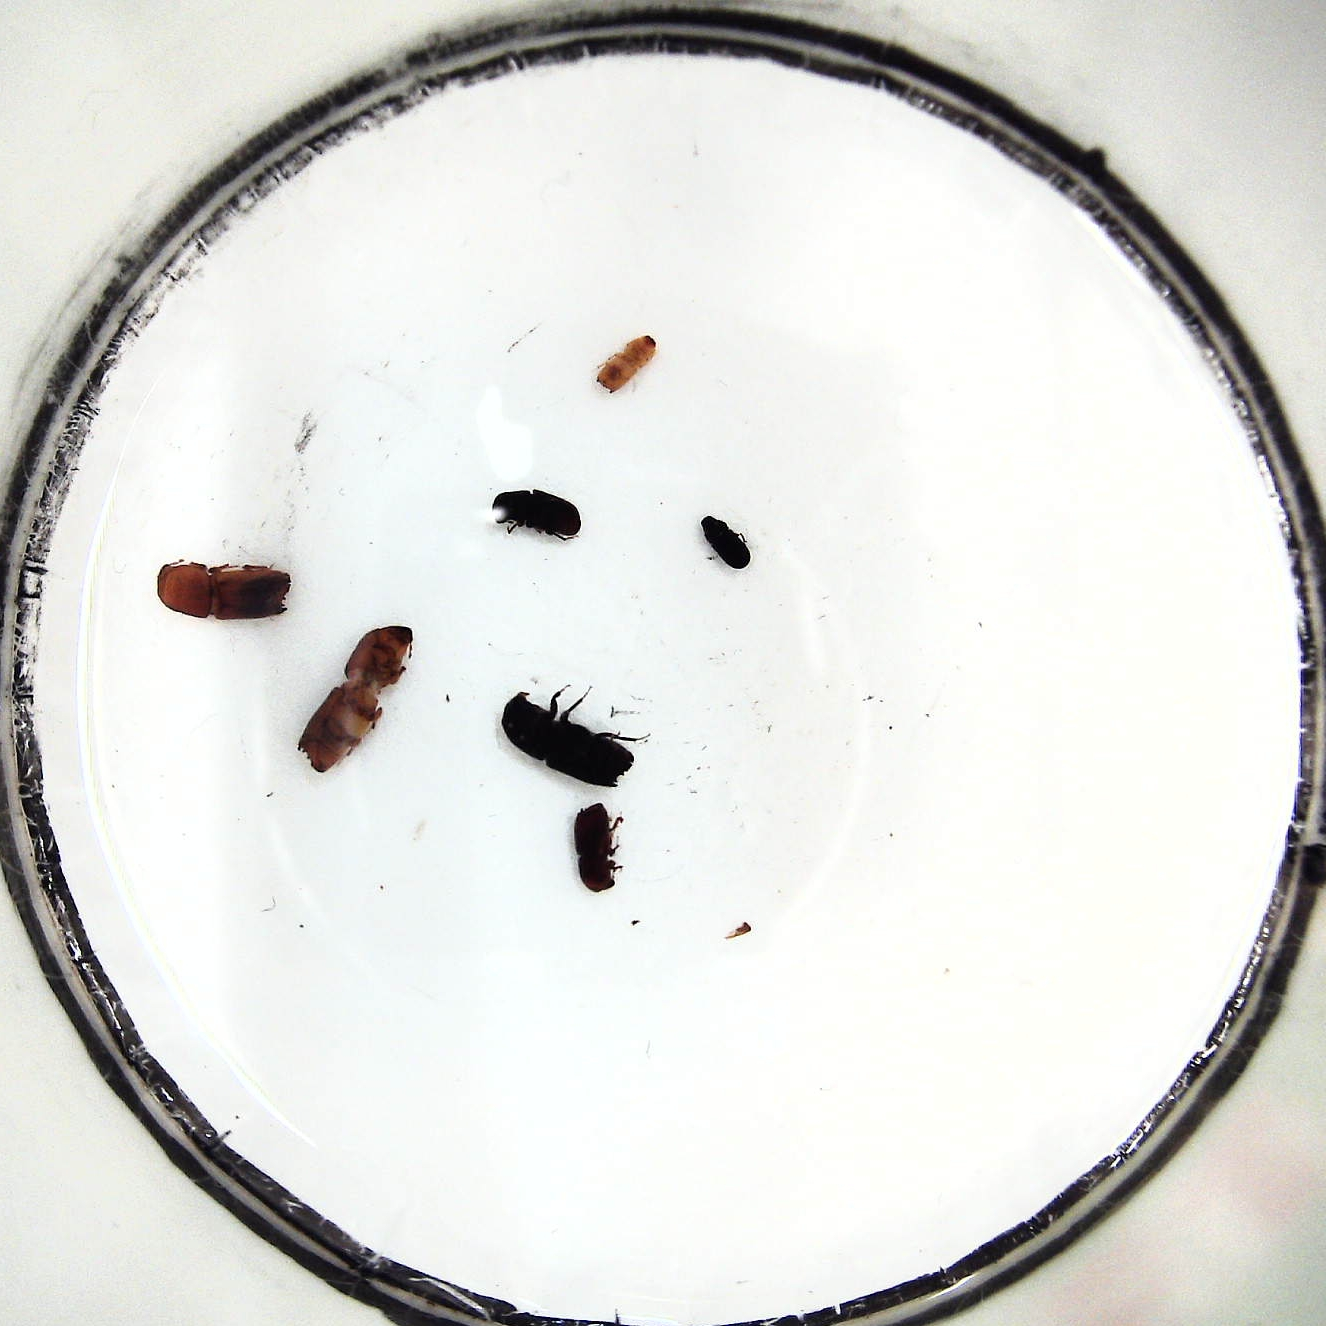Boerner: (295, 624, 413, 775), (495, 690, 639, 790), (153, 562, 293, 627)
Linnaeus: (569, 801, 624, 892)
acuminatus: (591, 334, 657, 395)
armandi: (491, 489, 585, 544)
coleoptera: (698, 516, 754, 573)
